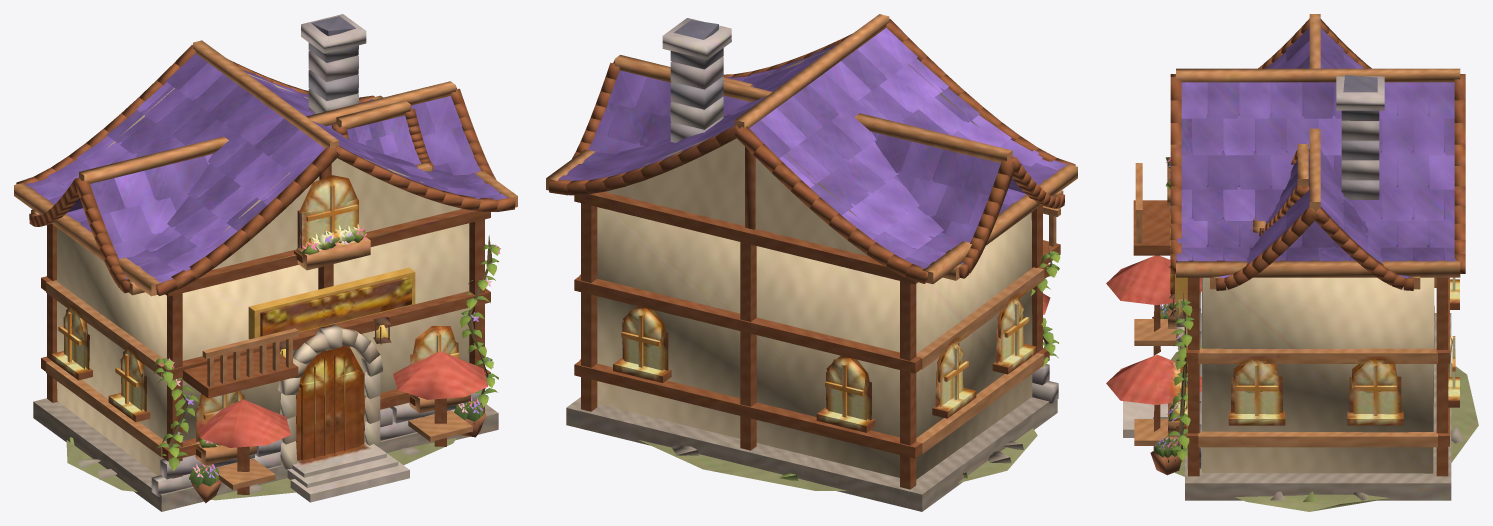
The model's file is bld_guest_inn.glb.
3 renders of one model, left to right at view 1: azimuth 30°, elevation 25°; view 2: azimuth 150°, elevation 25°; view 3: azimuth 270°, elevation 25°, orthographic. The views are drawn at different scales.
Parts seen in each view (by area): view 1: Body; view 2: Body; view 3: Body.
Boxes of the visible parts, left/top/right/bottom form: Body: left=14, top=14, right=517, bottom=511; Body: left=546, top=14, right=1077, bottom=511; Body: left=1106, top=14, right=1478, bottom=511.
Bounding box in the file's own units: 5.86 × 5.32 × 4.75.
1 material, 1 textured.
